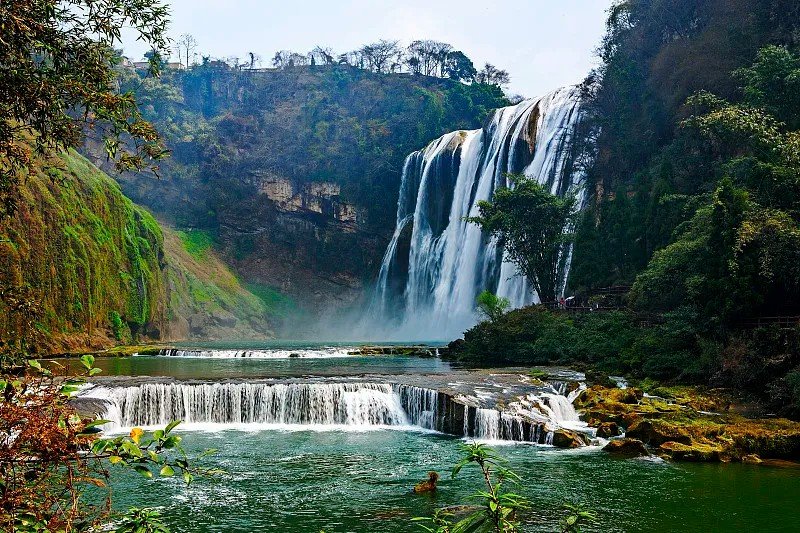Huangguoshu: (372, 86, 584, 342)
